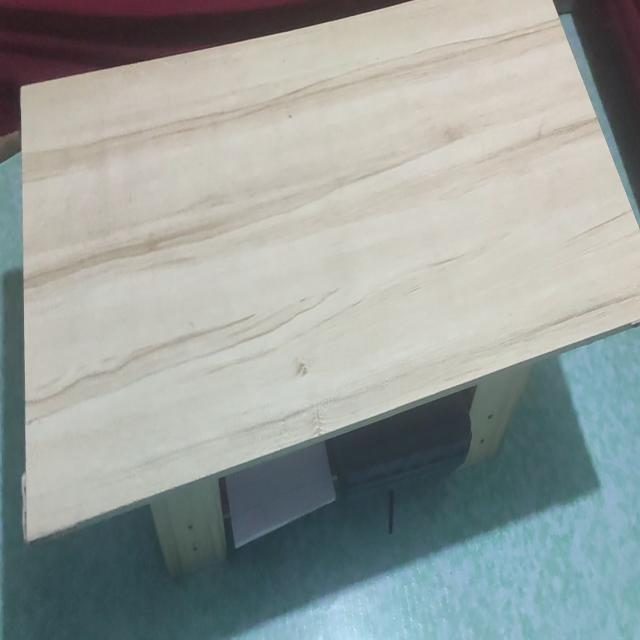table: (18, 5, 640, 559)
